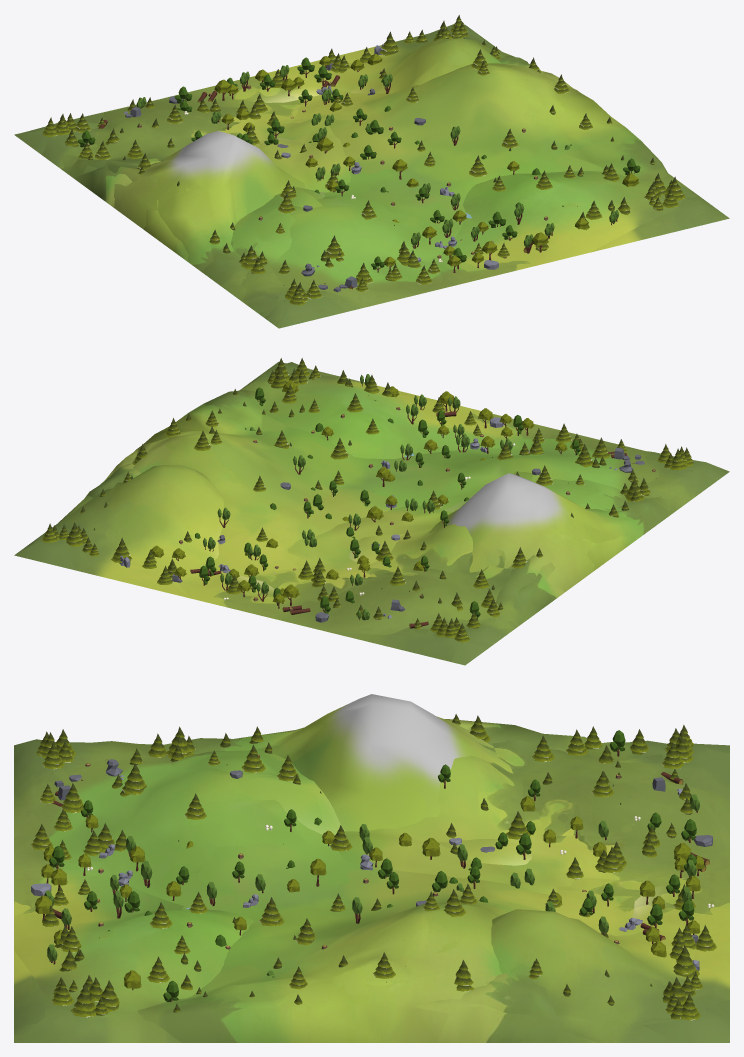
The model's file is terrain.glb.
3 views of the same model, one above another, from view 1: azimuth 30°, elevation 25°; view 2: azimuth 150°, elevation 25°; view 3: azimuth 270°, elevation 25° (orthographic). The views are drawn at different scales.
Parts seen in each view (by area): view 1: Terrain_3, Terrain_2, Terrain_6, Terrain_5, Terrain_4, Terrain_1; view 2: Terrain_3, Terrain_2, Terrain_5, Terrain_6, Terrain_4, Terrain_1; view 3: Terrain_3, Terrain_2, Terrain_5, Terrain_6, Terrain_4, Terrain_1.
Part boxes in pixels (x1,y1,x2,y2): Terrain_3: [39, 25, 700, 328]; Terrain_2: [50, 30, 717, 317]; Terrain_6: [61, 22, 660, 294]; Terrain_5: [15, 15, 691, 301]; Terrain_4: [14, 24, 729, 328]; Terrain_1: [23, 20, 718, 327]; Terrain_3: [59, 367, 721, 653]; Terrain_2: [38, 358, 715, 640]; Terrain_5: [40, 373, 694, 665]; Terrain_6: [53, 368, 673, 630]; Terrain_4: [14, 361, 729, 665]; Terrain_1: [66, 358, 723, 658]; Terrain_3: [14, 714, 729, 1042]; Terrain_2: [14, 719, 728, 1042]; Terrain_5: [39, 725, 729, 1042]; Terrain_6: [14, 694, 729, 1019]; Terrain_4: [14, 726, 729, 1042]; Terrain_1: [14, 728, 729, 1042].
Size of the model in its own units: 38.11 by 7.2 by 38.75.
6 materials, 6 textured.
